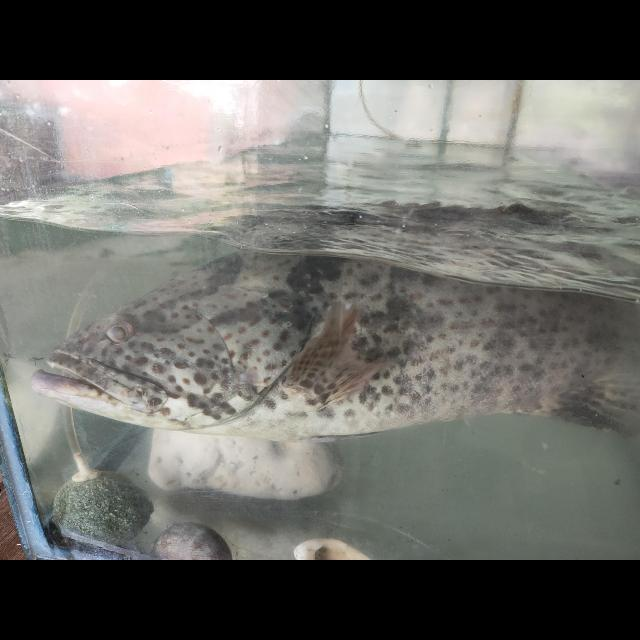Groupers: (31, 198, 640, 439)
